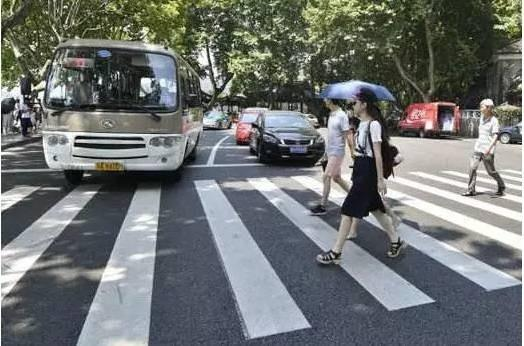bus: (37, 39, 204, 182)
car: (248, 110, 326, 166), (234, 108, 269, 144), (499, 120, 524, 144), (202, 111, 231, 130)
person: (313, 95, 406, 265), (462, 98, 507, 197), (314, 101, 354, 211), (17, 104, 33, 136)
truck: (398, 101, 461, 137)
